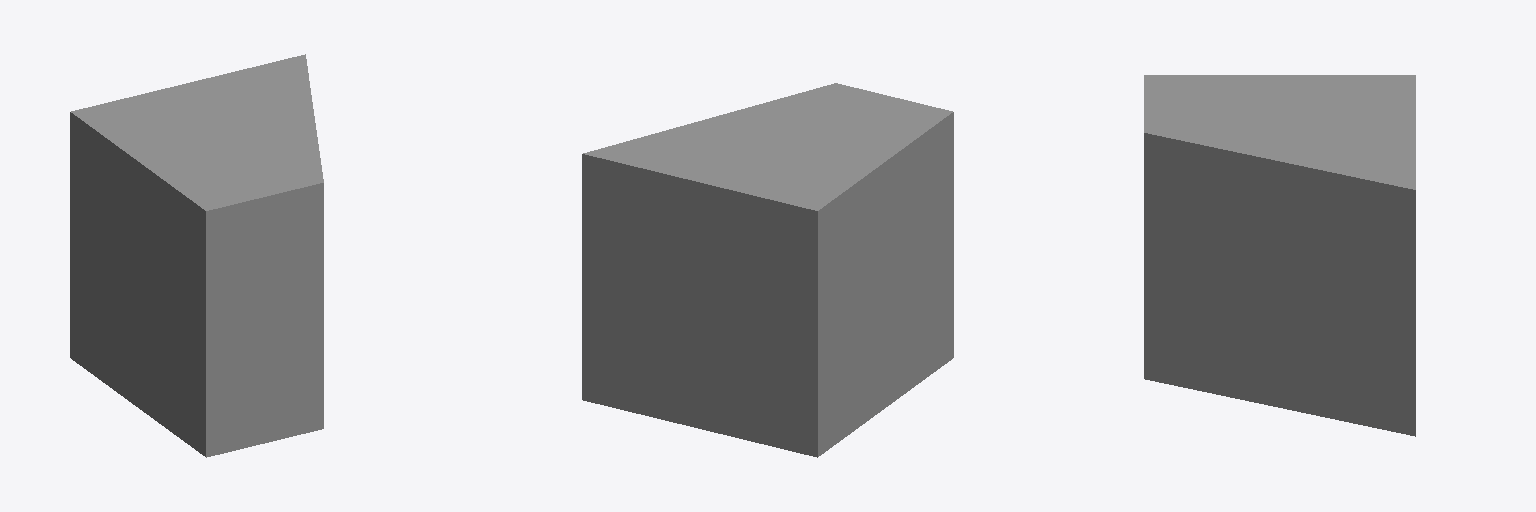
The model's file is FlipperLeft.obj.
3 renders of one model, left to right at view 1: azimuth 30°, elevation 25°; view 2: azimuth 150°, elevation 25°; view 3: azimuth 270°, elevation 25°, orthographic.
Parts seen in each view (by area): view 1: Flipper2S_Cube.007, Flipper2S.001_Cube.012; view 2: Flipper2S_Cube.007, Flipper2S.001_Cube.012; view 3: Flipper2S_Cube.007, Flipper2S.001_Cube.012.
Boxes of the visible parts, x1=… form: Flipper2S_Cube.007: x1=70, y1=54, x2=323, y2=457; Flipper2S.001_Cube.012: x1=86, y1=62, x2=313, y2=202; Flipper2S_Cube.007: x1=582, y1=83, x2=953, y2=457; Flipper2S.001_Cube.012: x1=604, y1=89, x2=935, y2=204; Flipper2S_Cube.007: x1=1144, y1=75, x2=1415, y2=436; Flipper2S.001_Cube.012: x1=1160, y1=80, x2=1403, y2=182.
Size of the model in its own units: 2 by 2 by 2.